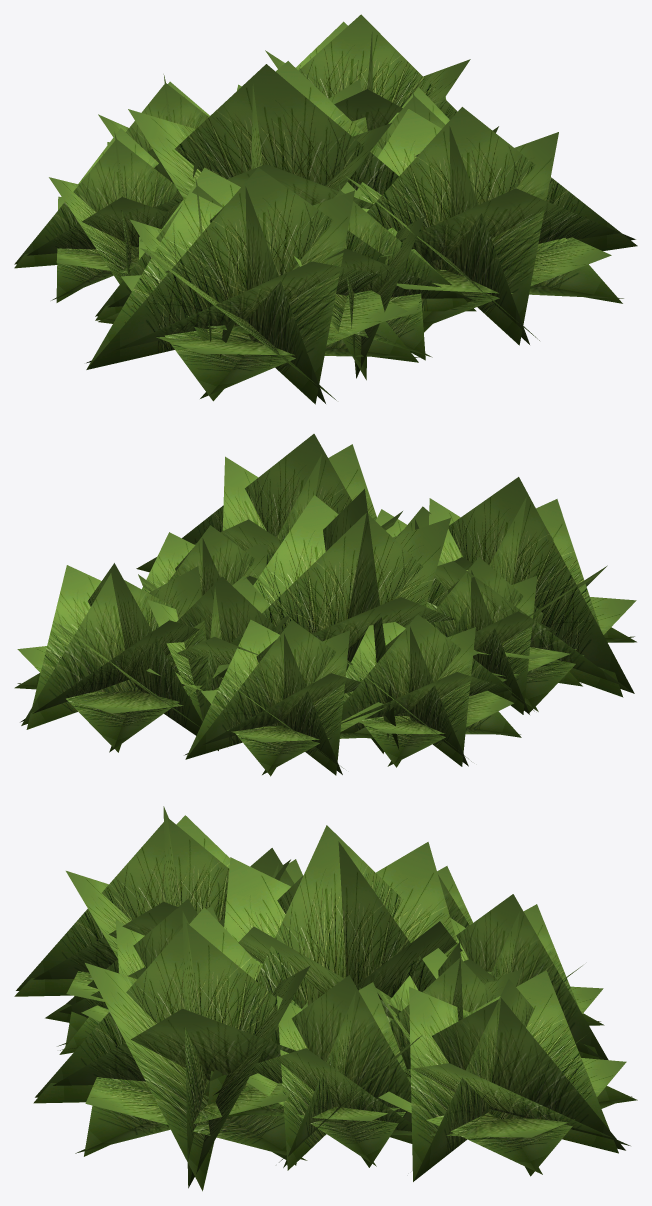
The model's file is grass001.glb.
The picture shows the model from 3 angles, top to bottom: view 1: azimuth 30°, elevation 25°; view 2: azimuth 150°, elevation 25°; view 3: azimuth 270°, elevation 25°; orthographic projection. The views are drawn at different scales.
Visible parts, largest first — view 1: grass001; view 2: grass001; view 3: grass001.
Part boxes in pixels (bbox=[...]): grass001: bbox=[14, 14, 637, 404]; grass001: bbox=[14, 434, 636, 776]; grass001: bbox=[14, 806, 637, 1191].
Bounding box in the file's own units: 6.23 × 2.25 × 6.01.
1 material, 1 textured.
